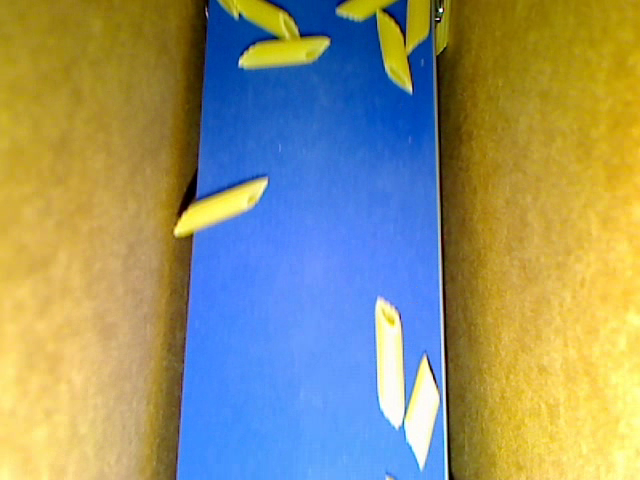penne: (167, 175, 268, 240), (401, 347, 442, 471), (373, 298, 405, 426), (235, 34, 335, 71), (372, 10, 413, 95), (228, 1, 306, 44), (402, 1, 431, 59), (336, 1, 402, 22), (432, 1, 452, 55), (217, 1, 240, 25)
